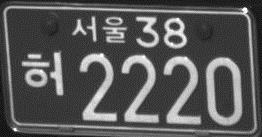0: (205, 54, 244, 127)
2: (120, 51, 159, 126), (164, 54, 203, 127), (78, 52, 118, 123)
3: (135, 14, 159, 49)
8: (162, 16, 188, 51)
서울_O: (72, 14, 129, 46)
허: (19, 50, 66, 98)
